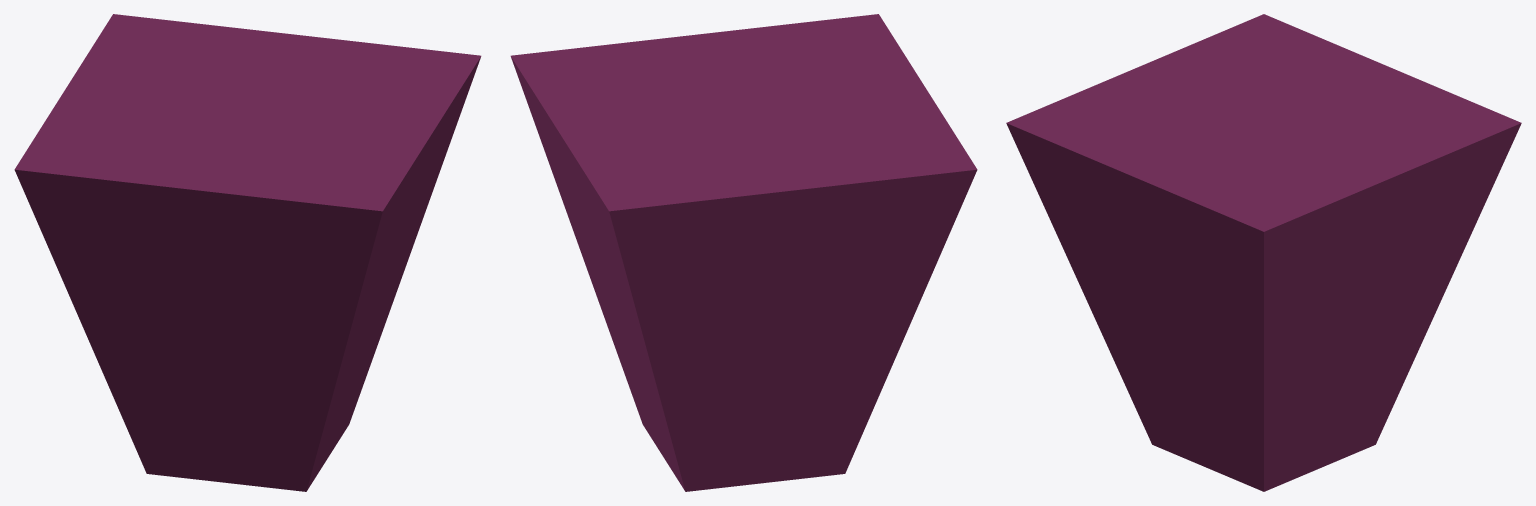
The model's file is prop_bottle_3_cover.glb.
The picture shows the model from 3 angles, left to right: view 1: azimuth 30°, elevation 25°; view 2: azimuth 150°, elevation 25°; view 3: azimuth 270°, elevation 25°; orthographic projection. The views are drawn at different scales.
Parts seen in each view (by area): view 1: Props with out snow_Bottle_3_Cover_0; view 2: Props with out snow_Bottle_3_Cover_0; view 3: Props with out snow_Bottle_3_Cover_0.
Part boxes in pixels (<box>): Props with out snow_Bottle_3_Cover_0: <box>14,14,481,491</box>; Props with out snow_Bottle_3_Cover_0: <box>510,14,977,491</box>; Props with out snow_Bottle_3_Cover_0: <box>1006,14,1521,491</box>.
Bounding box in the file's own units: 0.0784 × 0.054 × 0.0784.
